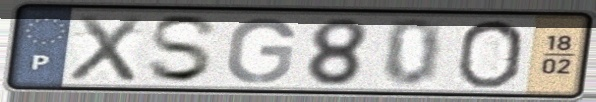0: (382, 16, 447, 89)
8: (305, 15, 372, 88)
G: (222, 15, 299, 85)
O: (453, 18, 529, 91)
S: (144, 13, 223, 86)
X: (64, 12, 145, 84)
